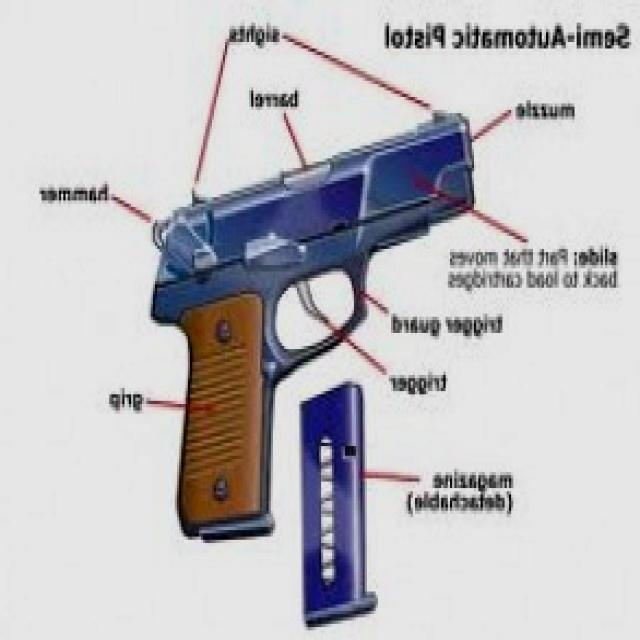pistol: (151, 103, 489, 550)
